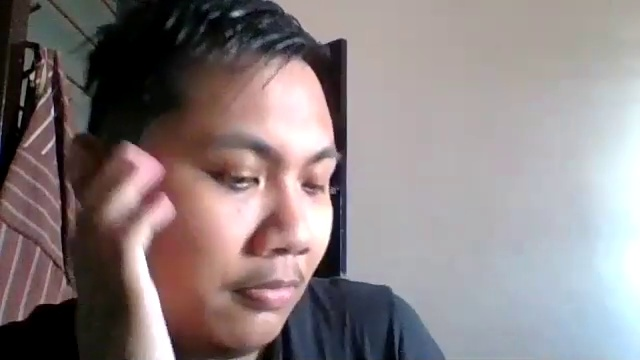Distracted: (114, 28, 341, 354)
